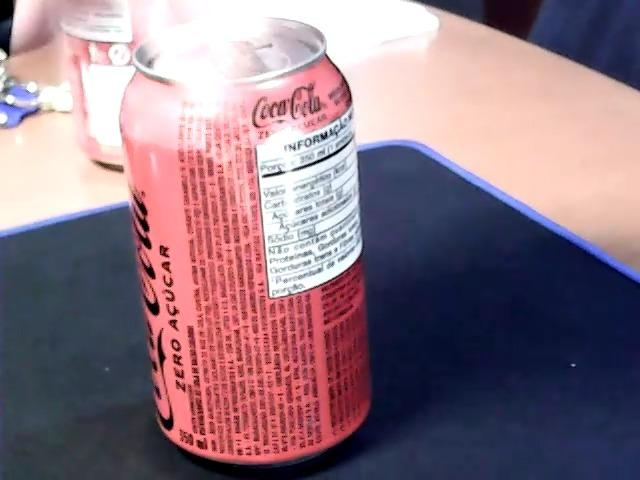coke: (125, 44, 363, 463), (61, 12, 138, 172)
